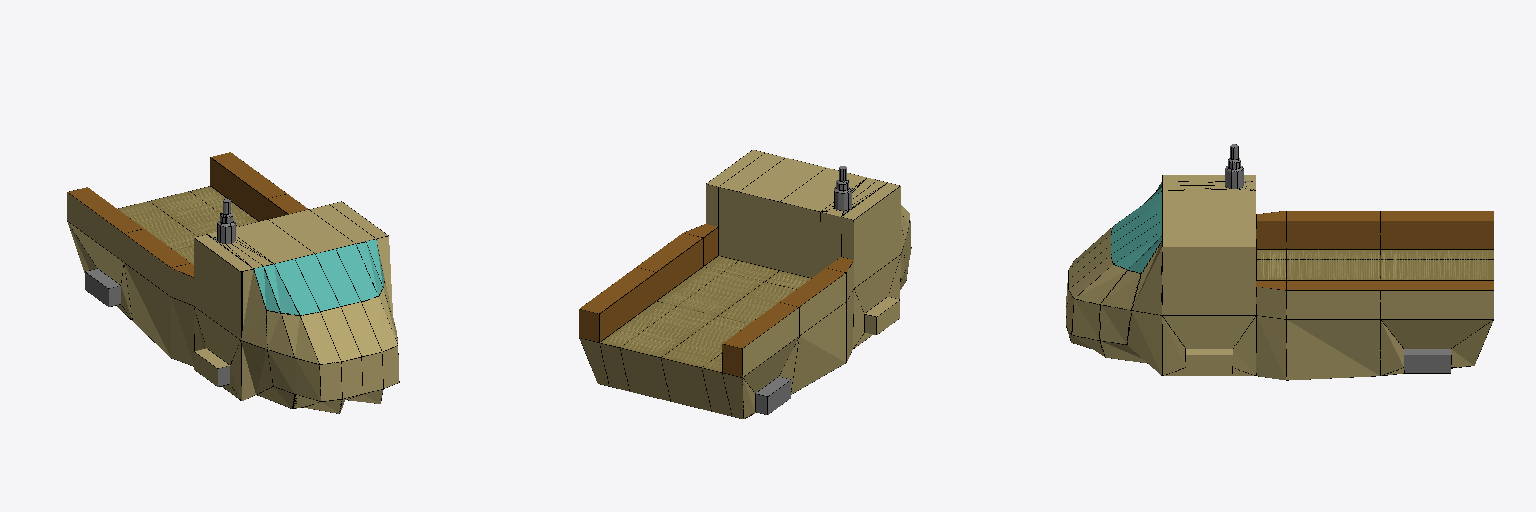
3 renders of one model, left to right at view 1: azimuth 30°, elevation 25°; view 2: azimuth 150°, elevation 25°; view 3: azimuth 270°, elevation 25°, orthographic.
Visible parts, largest first — view 1: truck3_Cube.005; view 2: truck3_Cube.005; view 3: truck3_Cube.005.
Part boxes in pixels (x1,y1,x2,y2): truck3_Cube.005: (67,152,399,413); truck3_Cube.005: (579,150,911,418); truck3_Cube.005: (1066,144,1493,380).
Size of the model in its own units: 0.8364 by 0.7946 by 1.82.
1 materials, 1 textured.